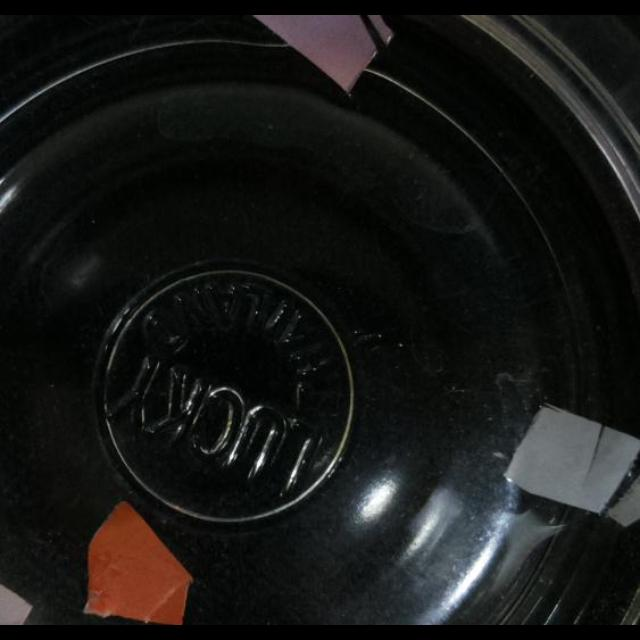Fragment: (502, 404, 640, 526), (84, 502, 194, 624), (248, 14, 394, 92)
